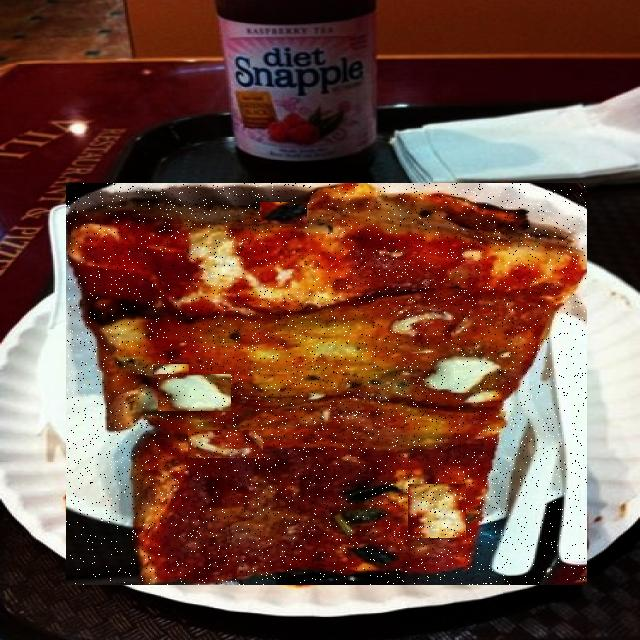Basil: (194, 232, 242, 274), (269, 235, 322, 260), (260, 202, 307, 224), (257, 268, 313, 286)
Cheese: (408, 484, 466, 538), (158, 374, 231, 411), (188, 430, 263, 458), (153, 364, 189, 376)
Pizza: (66, 183, 587, 585)
